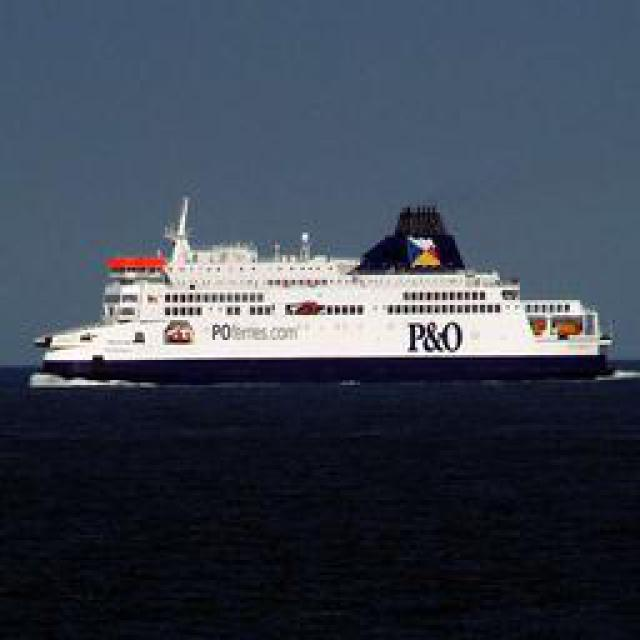Ship: (28, 191, 613, 386)
